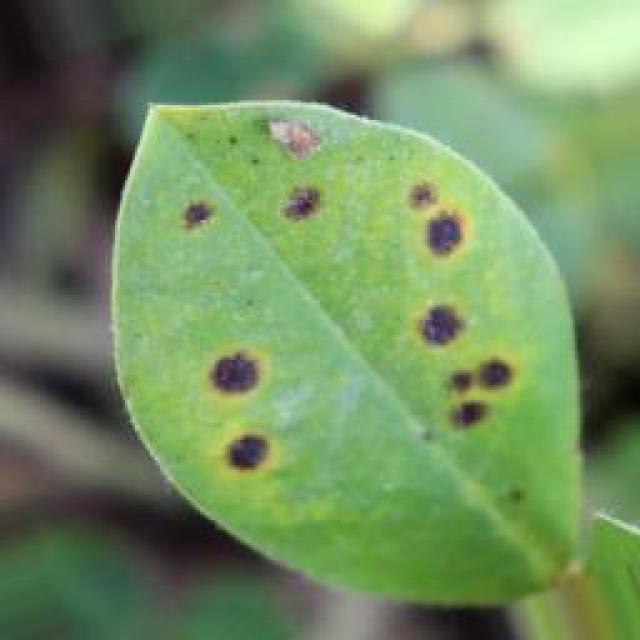Yellowish: (75, 70, 568, 586)
